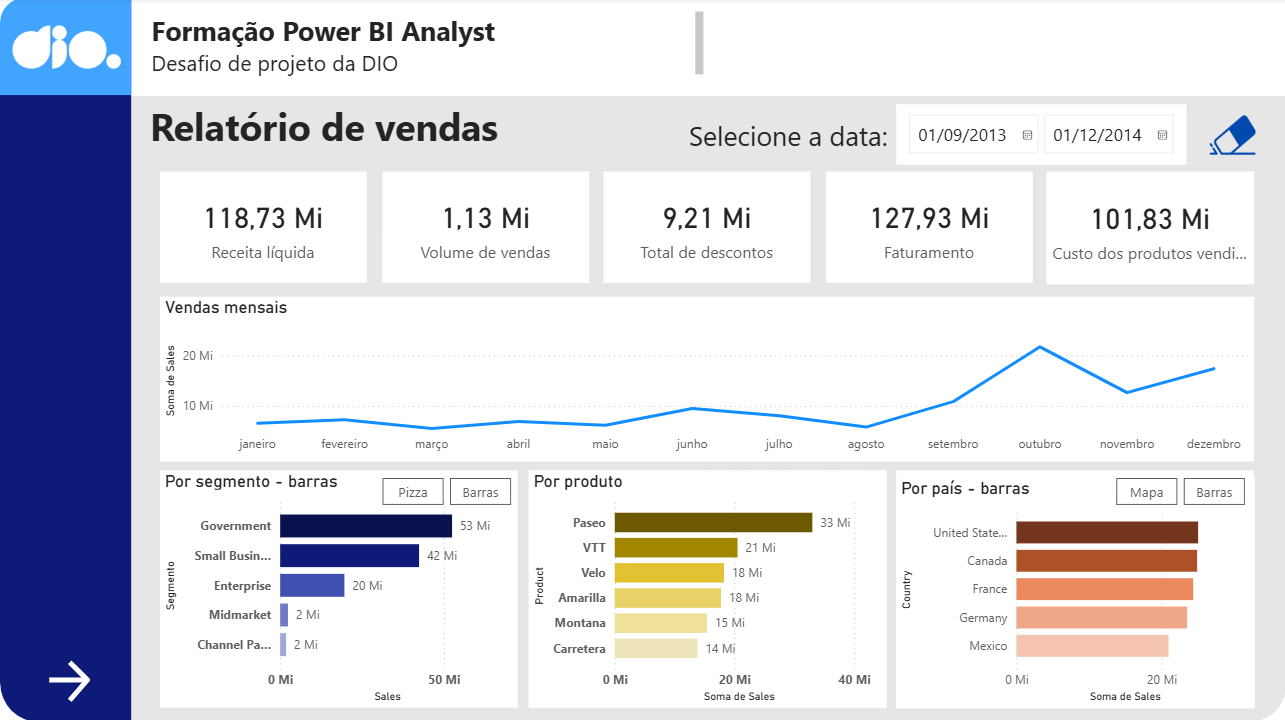

The dashboard page shown, as its layout file describes it:
{"tool":"powerbi","page":{"name":"Página 1","canvas":[1280,720],"ordinal":0},"visuals":[{"type":"shape","box":[0,0,1280,720.3],"z":0},{"type":"slicer","fields":{"Values":["financials.Date"]},"box":[891.9,105.7,288.6,59.7],"z":0,"group":"g2"},{"type":"shape","box":[158.9,173.3,205.7,110.8],"z":0,"group":"g1"},{"type":"clusteredBarChart","title":"Por segmento - barras","fields":{"Category":["financials.Segment"],"Y":["Sum(financials. Sales)"]},"box":[159.2,470.2,355.8,236.4],"z":0,"group":"g3"},{"type":"map","title":"Por país - maps","fields":{"Category":["financials.Country"],"Size":["Sum(financials. Sales)"]},"box":[891.8,479,355.6,227.2],"z":0,"group":"g4"},{"type":"shape","box":[0,0,130.9,720.7],"z":1000},{"type":"image","title":"Clean icone","box":[1196.6,113.2,59.7,46],"z":1000,"group":"g2"},{"type":"shape","box":[379.7,173.3,205.7,110.8],"z":1000,"group":"g1"},{"type":"clusteredBarChart","title":"Por país - barras","fields":{"Y":["Sum(financials. Sales)"],"Category":["financials.Country"]},"box":[891.3,477.5,356.5,229],"z":1000,"group":"g4"},{"type":"actionButton","title":"Botão barra para sales x seg","box":[447.1,477.5,60.9,26.8],"z":1500,"group":"g3"},{"type":"actionButton","title":"Botão mapa para sales x country","box":[1109.7,477.5,60.9,26.8],"z":1500,"group":"g4"},{"type":"textbox","box":[680.4,113.2,211.5,58.5],"z":2000,"group":"g2"},{"type":"shape","box":[600.5,173.3,205.7,110.8],"z":2000,"group":"g1"},{"type":"lineChart","title":"Vendas mensais","fields":{"Y":["Sum(financials. Sales)"],"Category":["financials.Date.Variation.Hierarquia de datas.Mês"]},"box":[158.9,297.9,1088.6,164.3],"z":2000},{"type":"actionButton","title":"Botão pizza para sales x seg","box":[379.7,477.5,60.9,26.8],"z":2000,"group":"g3"},{"type":"actionButton","title":"Botão barra para sales x country","box":[1177.1,477.5,60.9,26.8],"z":2000,"group":"g4"},{"type":"card","fields":{"Values":["Sum(financials.Discounts)"]},"box":[600.3,173.6,205.1,110.8],"z":2500,"group":"g1"},{"type":"shape","box":[0,0,131.4,97.1],"z":3000},{"type":"actionButton","box":[1189.2,110.7,74.6,52.2],"z":3000,"group":"g2"},{"type":"shape","box":[821.3,173.3,205.7,110.8],"z":3000,"group":"g1"},{"type":"card","fields":{"Values":["Sum(financials.Units Sold)"]},"box":[380.3,173.6,205.1,110.8],"z":3125,"group":"g1"},{"type":"card","fields":{"Values":["Sum(financials. Sales)"]},"box":[158.7,173.6,205.1,110.8],"z":3250,"group":"g1"},{"type":"card","fields":{"Values":["Sum(financials.Gross Sales)"]},"box":[821.9,173.6,205.1,110.8],"z":3500,"group":"g1"},{"type":"image","title":"Logo","box":[12.9,0,107.9,97.8],"z":4000},{"type":"shape","box":[1042.1,173.3,205.7,110.8],"z":4000,"group":"g1"},{"type":"shape","box":[130.9,0,1149.4,97.8],"z":5000},{"type":"textbox","box":[145.5,8.7,559.8,80.9],"z":6000},{"type":"group","id":"g1","title":"Cartões de alto nível","box":[158.7,173.3,1089.1,111.1],"z":7000},{"type":"textbox","box":[144.4,97.5,370.1,61.4],"z":8000},{"type":"card","fields":{"Values":["Sum(financials.COGS)"]},"box":[1041.2,172.9,206.5,112],"z":9000},{"type":"shape","box":[526.2,470.2,355.8,236.4],"z":10000},{"type":"shape","box":[891.9,470.2,355.8,236.4],"z":11000},{"type":"clusteredBarChart","title":"Por produto","fields":{"Y":["Sum(financials. Sales)"],"Category":["financials.Product"]},"box":[526.2,470.2,355.8,236.4],"z":12000},{"type":"group","id":"g2","title":"Filtro por data","box":[680.4,105.7,583.4,65.9],"z":13000},{"type":"group","id":"g3","title":"Salex s Segment","box":[158.6,470.2,356.4,236.6],"z":14000},{"type":"group","id":"g4","title":"Sales x Country","box":[891.3,477.5,356.5,229],"z":15000},{"type":"actionButton","title":"Botão página seguinte","box":[42.9,654.3,78.6,51.4],"z":16000}]}

Visuals, with their boxes in screenshot pixels (x1, y1, x2, y2), scaled from the page's 1280x720 canvas onto the 1285x720 screenshot:
shape: [0, 0, 1284, 719]
slicer - financials.Date: [895, 106, 1185, 165]
shape: [160, 173, 366, 284]
"Por segmento - barras" clusteredBarChart: [160, 470, 517, 707]
"Por país - maps" map: [895, 479, 1252, 706]
shape: [0, 0, 131, 719]
"Clean icone" image: [1201, 113, 1261, 159]
shape: [381, 173, 588, 284]
"Por país - barras" clusteredBarChart: [895, 478, 1253, 706]
"Botão barra para sales x seg" actionButton: [449, 478, 510, 504]
"Botão mapa para sales x country" actionButton: [1114, 478, 1175, 504]
textbox: [683, 113, 895, 172]
shape: [603, 173, 809, 284]
"Vendas mensais" lineChart: [160, 298, 1252, 462]
"Botão pizza para sales x seg" actionButton: [381, 478, 442, 504]
"Botão barra para sales x country" actionButton: [1182, 478, 1243, 504]
card - Sum(financials.Discounts): [603, 174, 809, 284]
shape: [0, 0, 132, 97]
actionButton: [1194, 111, 1269, 163]
shape: [825, 173, 1031, 284]
card - Sum(financials.Units Sold): [382, 174, 588, 284]
card - Sum(financials. Sales): [159, 174, 365, 284]
card - Sum(financials.Gross Sales): [825, 174, 1031, 284]
"Logo" image: [13, 0, 121, 98]
shape: [1046, 173, 1253, 284]
shape: [131, 0, 1284, 98]
textbox: [146, 9, 708, 90]
"Cartões de alto nível" group: [159, 173, 1253, 284]
textbox: [145, 98, 517, 159]
card - Sum(financials.COGS): [1045, 173, 1253, 285]
shape: [528, 470, 885, 707]
shape: [895, 470, 1253, 707]
"Por produto" clusteredBarChart: [528, 470, 885, 707]
"Filtro por data" group: [683, 106, 1269, 172]
"Salex s Segment" group: [159, 470, 517, 707]
"Sales x Country" group: [895, 478, 1253, 706]
"Botão página seguinte" actionButton: [43, 654, 122, 706]
